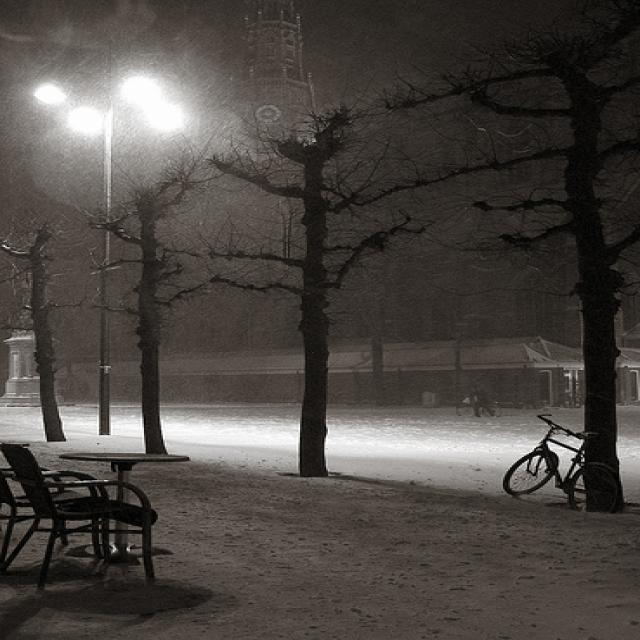Bicycle: (468, 408, 640, 587), (442, 370, 500, 431)
People: (466, 372, 502, 406)
Table: (76, 434, 183, 549)
chair: (0, 421, 147, 610)
